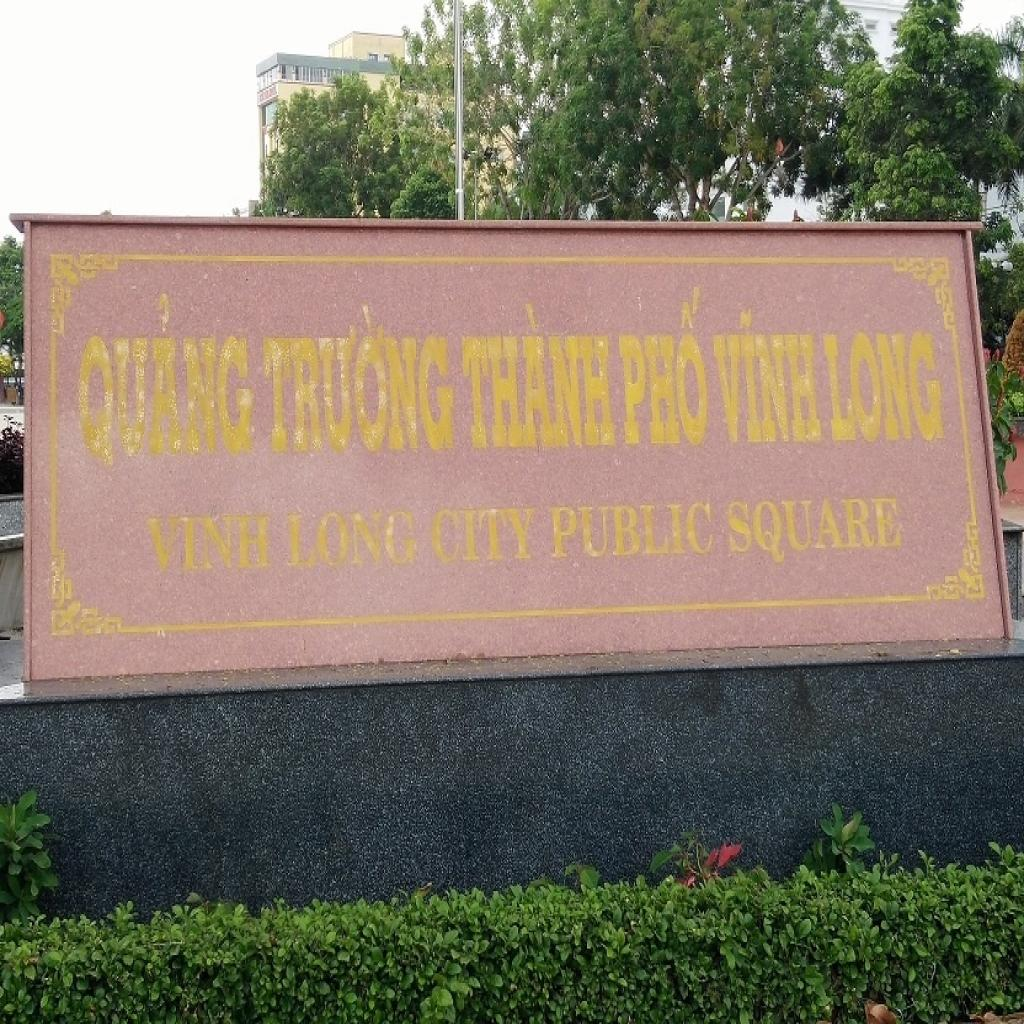text: (74, 289, 260, 476), (260, 300, 460, 458), (456, 300, 618, 453), (709, 302, 826, 448), (616, 281, 714, 451), (821, 328, 950, 445), (725, 492, 906, 571), (548, 497, 718, 561), (284, 507, 418, 573), (429, 506, 538, 570)
